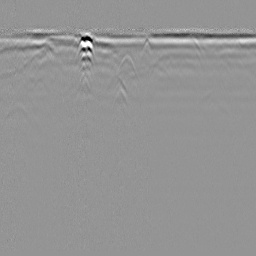cavity: (116, 52, 138, 77)
